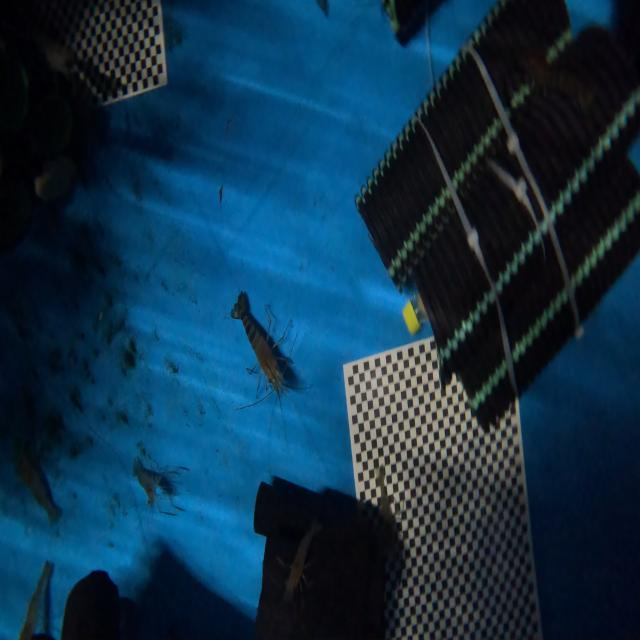prawn: (231, 291, 299, 394), (133, 446, 174, 506)
